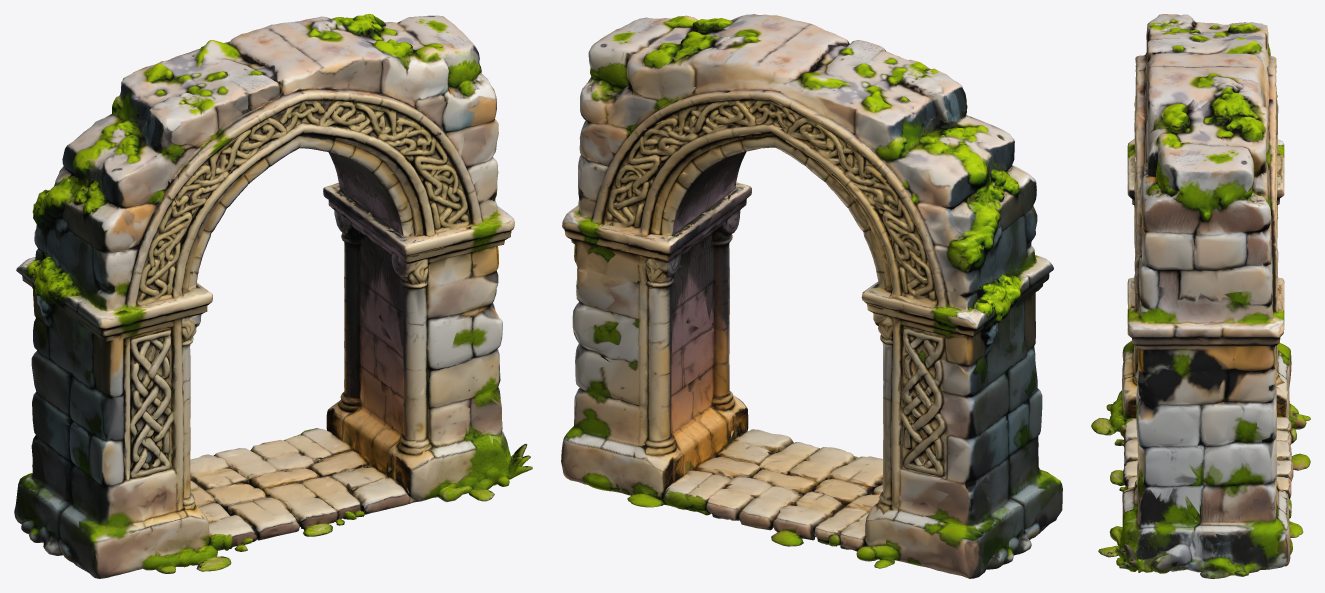
Rendered from Ancient_Archway.glb.
The picture shows the model from 3 angles, left to right: view 1: azimuth 30°, elevation 25°; view 2: azimuth 150°, elevation 25°; view 3: azimuth 270°, elevation 25°; orthographic projection. The views are drawn at different scales.
Visible parts, largest first — view 1: Ancient_Archway; view 2: Ancient_Archway; view 3: Ancient_Archway.
Boxes of the visible parts, <box> form: Ancient_Archway: <box>14,14,532,578</box>; Ancient_Archway: <box>561,14,1062,578</box>; Ancient_Archway: <box>1091,14,1310,578</box>.
Bounding box in the file's own units: 1.9 × 1.86 × 0.8657.
Materials: 1 (1 with a texture image).
